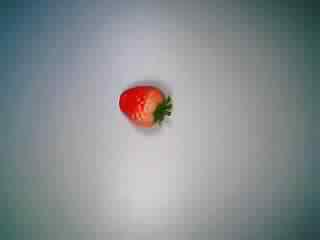strawberry: (109, 76, 183, 140)
